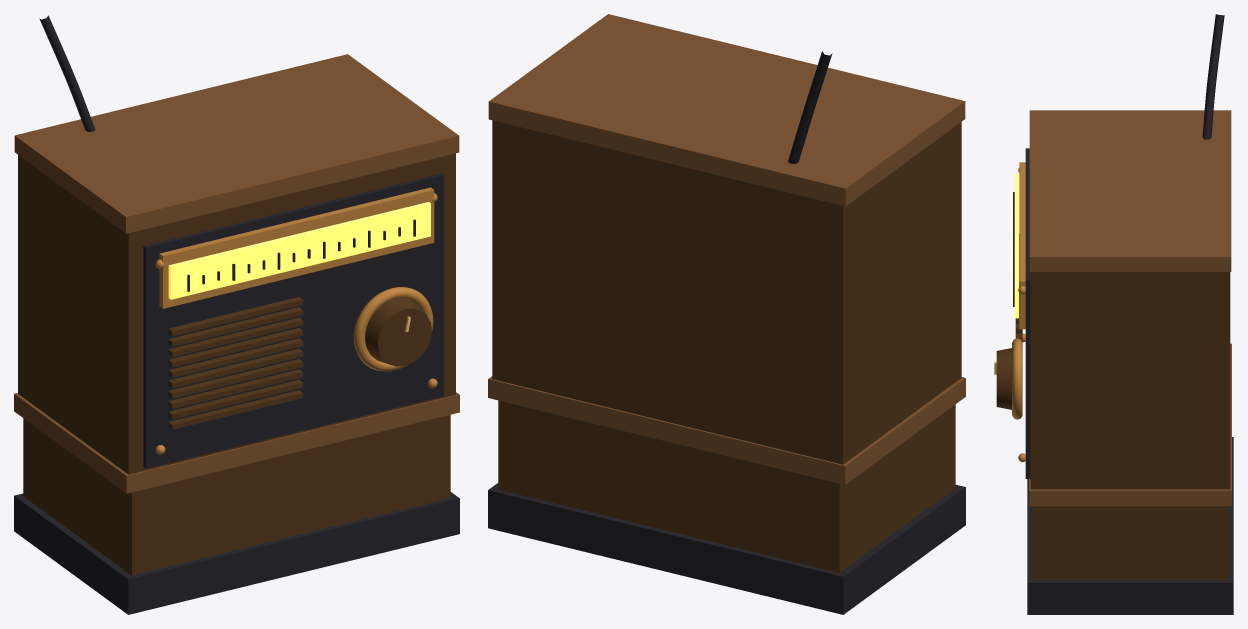
The model's file is mia-radio.glb.
3 renders of one model, left to right at view 1: azimuth 30°, elevation 25°; view 2: azimuth 150°, elevation 25°; view 3: azimuth 270°, elevation 25°, orthographic. The views are drawn at different scales.
Parts seen in each view (by area): view 1: Body_wood, Body_iron, Body_oak, Body_amber, Body_brass, Body_grain; view 2: Body_wood, Body_oak, Body_iron; view 3: Body_wood, Body_oak, Body_iron, Body_brass, Body_amber.
Part boxes in pixels (left/top/right/bottom): Body_wood: left=18, top=153, right=455, bottom=575; Body_iron: left=14, top=15, right=459, bottom=614; Body_oak: left=14, top=54, right=459, bottom=493; Body_amber: left=168, top=202, right=430, bottom=299; Body_brass: left=155, top=187, right=437, bottom=454; Body_grain: left=187, top=219, right=415, bottom=291; Body_wood: left=492, top=120, right=961, bottom=572; Body_oak: left=488, top=14, right=965, bottom=484; Body_iron: left=488, top=51, right=965, bottom=614; Body_wood: left=996, top=234, right=1230, bottom=579; Body_oak: left=1029, top=110, right=1231, bottom=506; Body_iron: left=1025, top=14, right=1233, bottom=614; Body_brass: left=1012, top=162, right=1025, bottom=462; Body_amber: left=1015, top=174, right=1018, bottom=318.
Bounding box in the file's own units: 0.774 × 1.15 × 0.5335.
